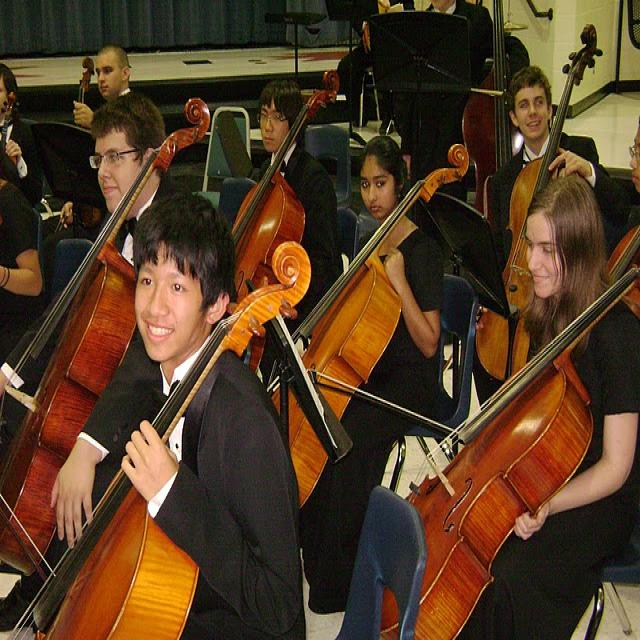cello: (2, 246, 312, 639), (1, 97, 212, 578), (381, 262, 640, 638), (270, 144, 471, 505), (474, 21, 603, 386), (224, 69, 340, 368), (462, 0, 535, 229)
